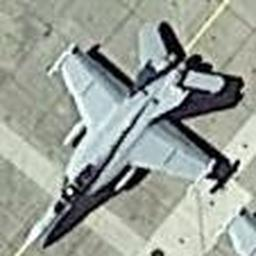Airplane: (13, 18, 246, 253)
